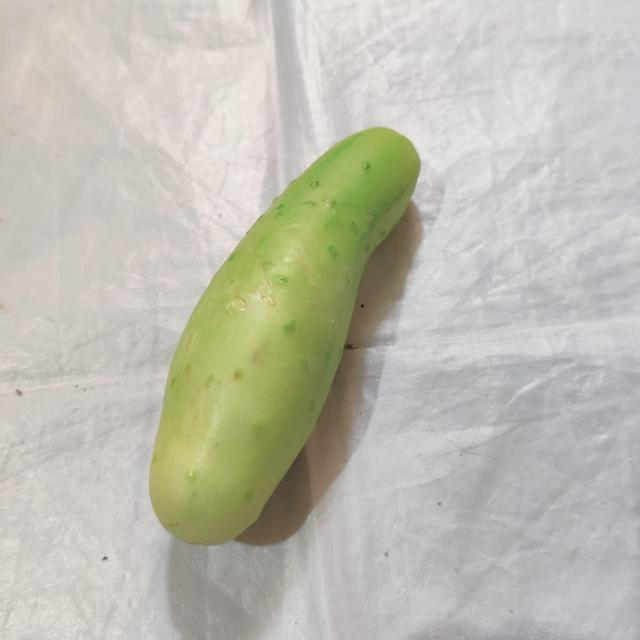Organik: (152, 127, 422, 541)
